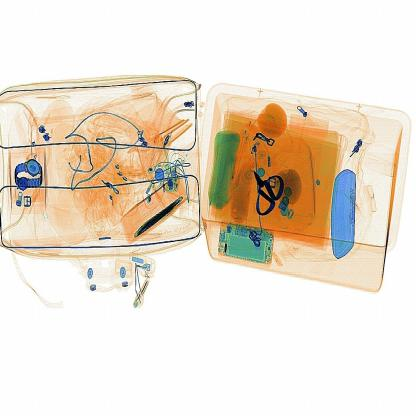gun: (247, 160, 292, 222)
